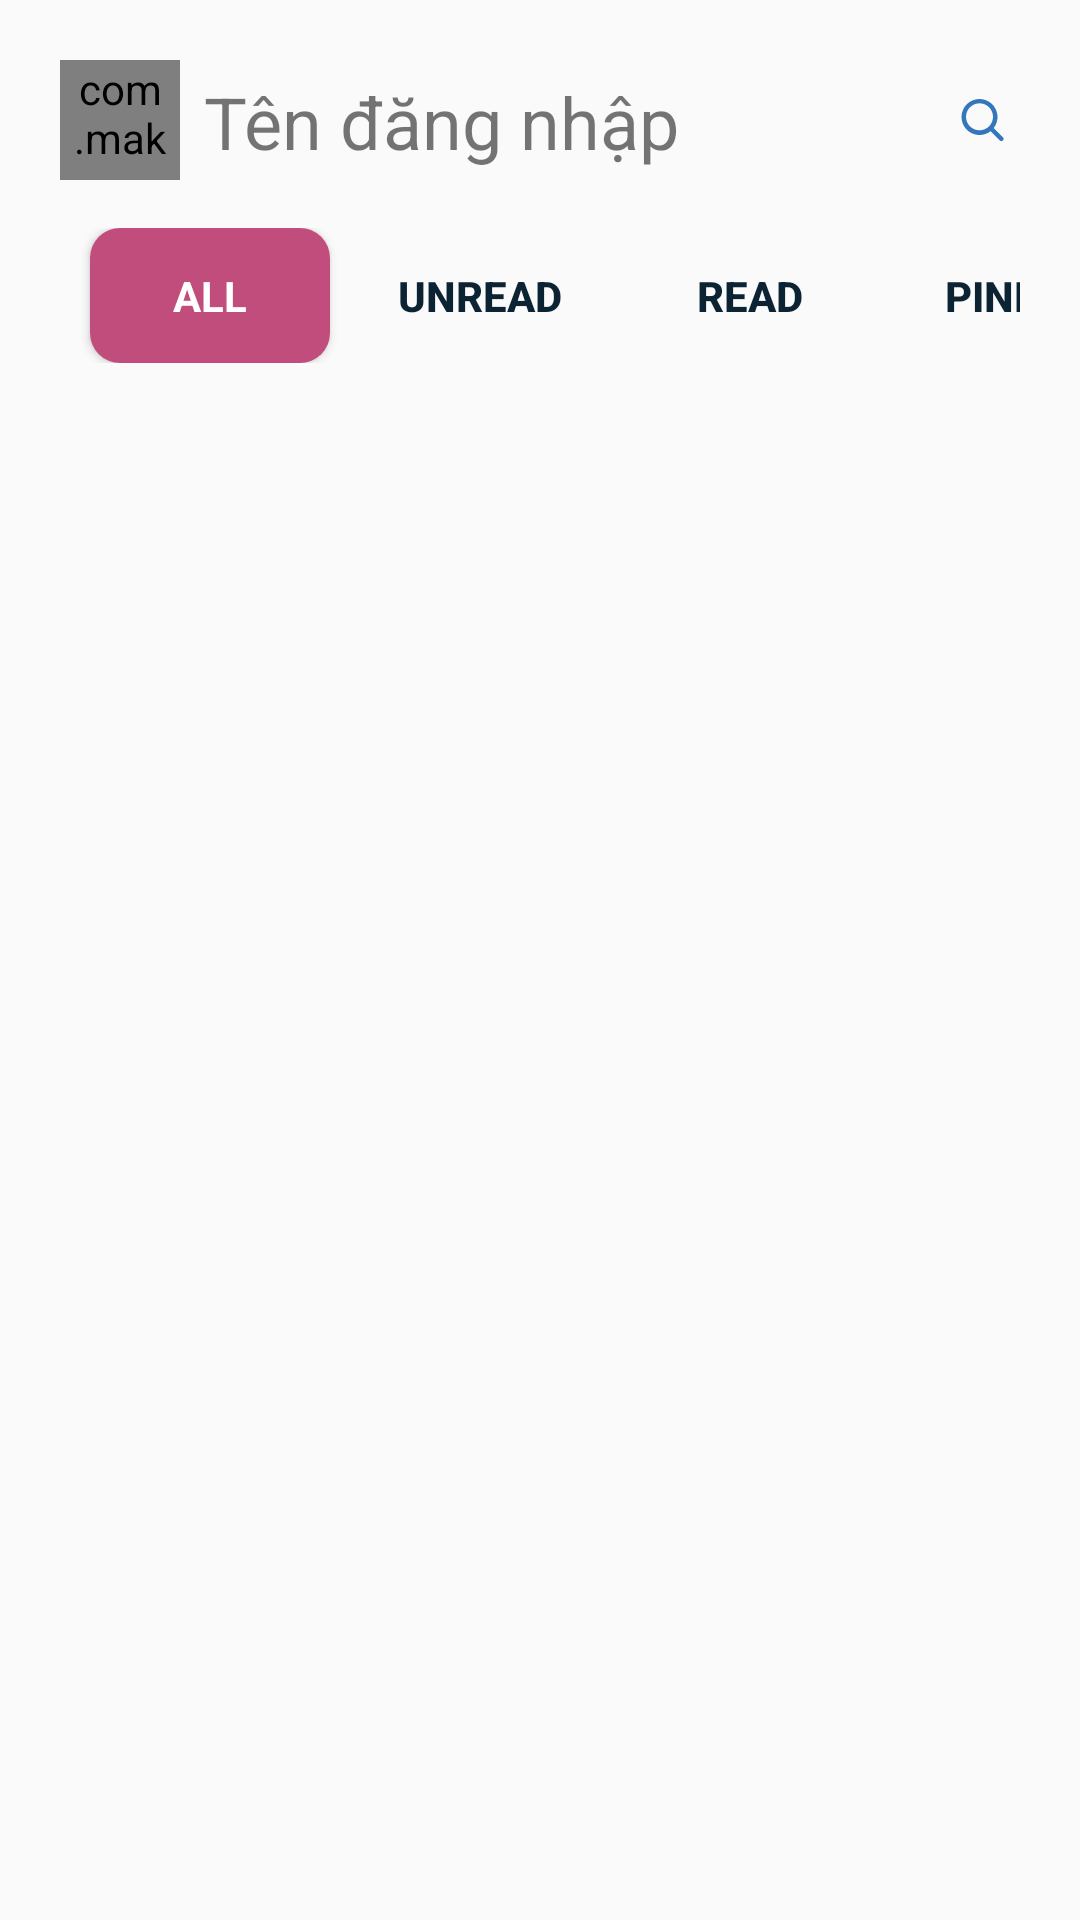

Named icons in this screenshot (1080*1920) and their centers, (x,y):
find: (982,120)
